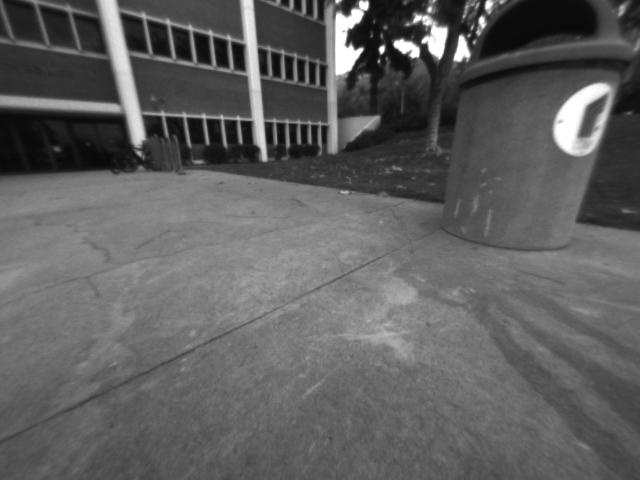trashcan: (428, 5, 635, 258)
